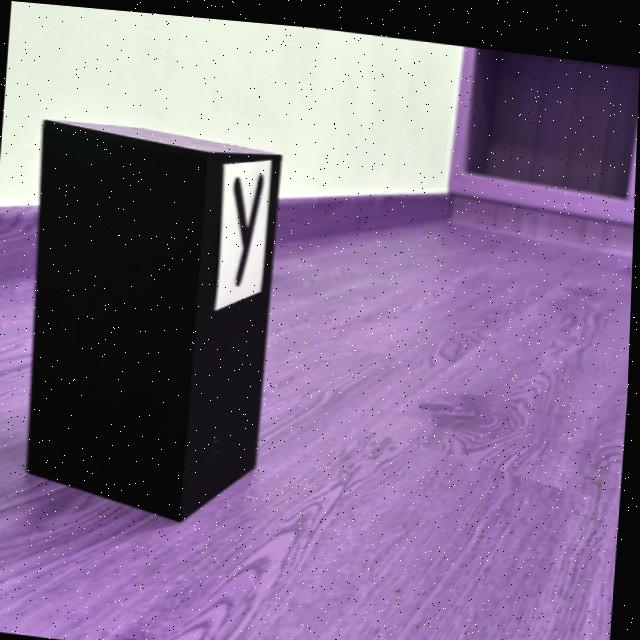Y: (234, 168, 264, 281)
